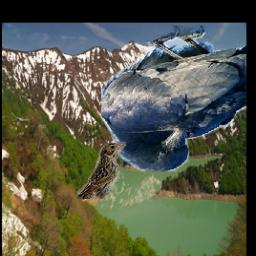Crow: (101, 26, 246, 171)
Sparrow: (76, 142, 126, 199)
